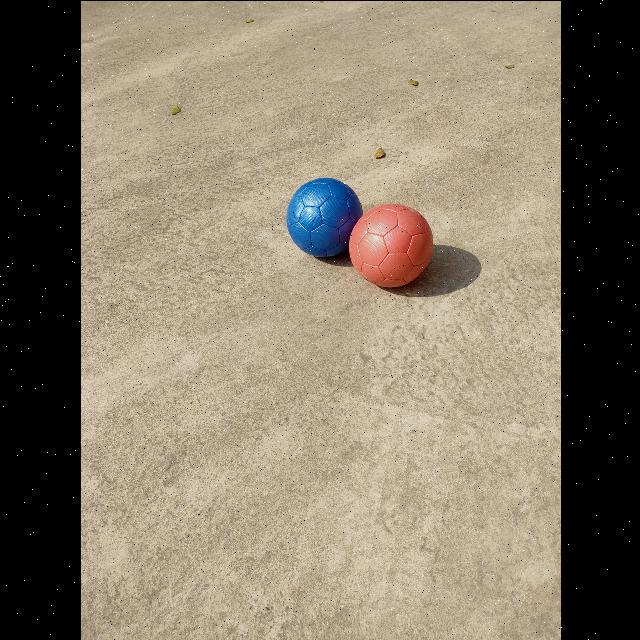B: (285, 177, 362, 257)
R: (348, 203, 433, 287)
